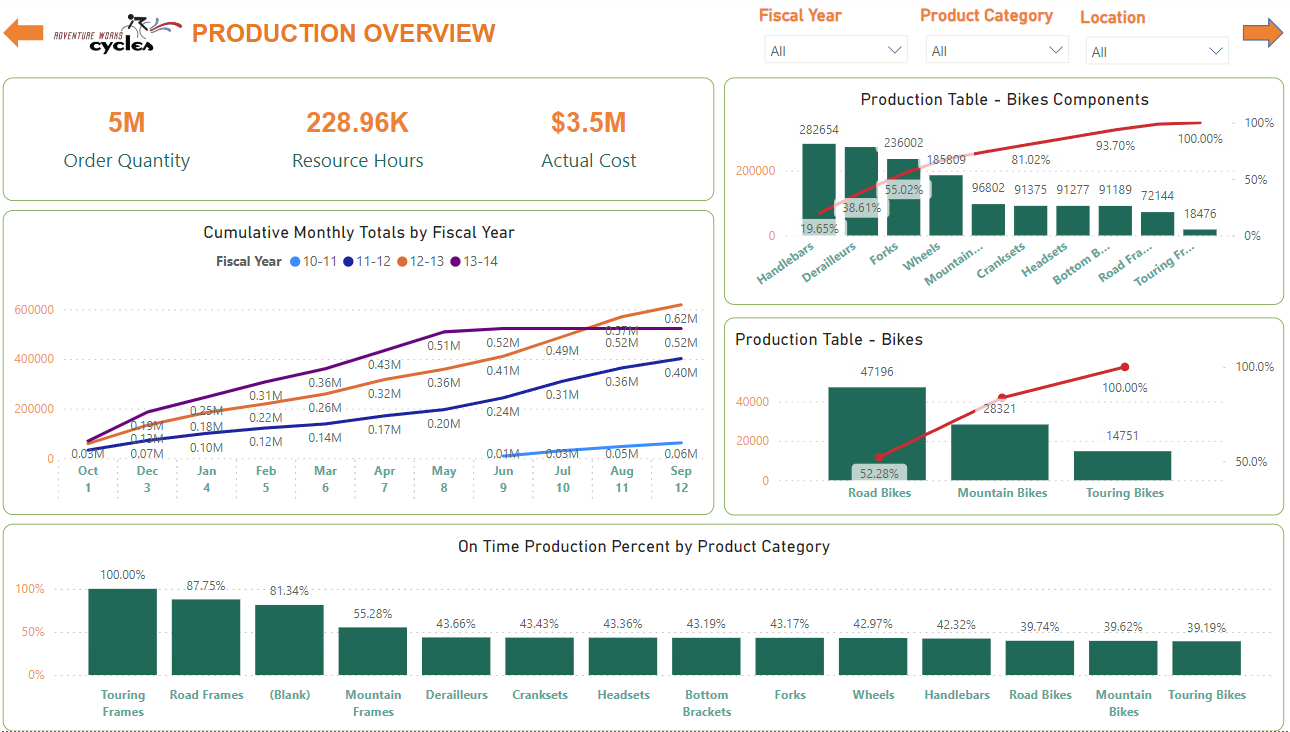

The dashboard page shown, as its layout file describes it:
{"tool":"powerbi","page":{"name":"PRODUCTION OVERVIEW","canvas":[1280,720],"ordinal":1},"visuals":[{"type":"cardVisual","title":"Fiscal YTD - Production","fields":{"Data":["Sum(DW Fact_Manufacturing.OrderQty)","Sum(DW Fact_Manufacturing.ActualResourceHrs)","Sum(DW Fact_Manufacturing.ActualCost)"]},"box":[13.5,80.7,695.8,121.1],"z":0},{"type":"lineChart","title":"Cumulative Monthly Totals by Fiscal Year","fields":{"Category":["Calendar.Fiscal Month sort","Calendar.CalMonth"],"Series":["Calendar.Fiscal Year"],"Y":["DAX.CumulativeTotalsYTD"]},"box":[13.5,210.3,695.8,298.4],"z":1000},{"type":"image","title":"logo","box":[57.2,0.4,138.6,80],"z":1500,"group":"g1"},{"type":"textbox","title":"title","box":[192.2,20.4,382.9,40],"z":1750,"group":"g1"},{"type":"group","id":"g1","title":"header","box":[12.9,0.4,1252.9,80.3],"z":2000},{"type":"lineClusteredColumnComboChart","title":"Production Table - Bikes Components","fields":{"Category":["Sum of Quantity Orders theo Sub.ProductSubCategoryName"],"Y":["Sum(Sum of Quantity Orders theo Sub.Sum of Quantity Orders)"],"Y2":["Sum of Quantity Orders theo Sub.Phan tram doanh thu cong don"]},"box":[719,80.7,547.8,222.6],"z":3000},{"type":"clusteredColumnChart","title":"On Time Production Percent by Product Category","fields":{"Category":["DW Dim_Product.ProductSubCategoryName"],"Y":["DAX.OnTimeProductionPercent"]},"box":[13.5,517.3,1253.4,203],"z":4000},{"type":"slicer","title":"Product Category","fields":{"Values":["DW Dim_Product.ProductCategoryName"]},"box":[905.1,9.8,160,70],"z":5000,"group":"g2"},{"type":"lineClusteredColumnComboChart","title":"Production Table - Bikes","fields":{"Category":["Sum_OrderQty of Bikes.ProductSubCategoryName"],"Y":["Sum(Sum_OrderQty of Bikes.Sum of Quantity Orders)"],"Y2":["Sum_OrderQty of Bikes.Phan tram san luong cong don"]},"box":[719,315.5,547.8,193.2],"z":5000},{"type":"slicer","title":"Location","fields":{"Values":["DW Dim_Location.LocationName"]},"box":[1062.3,11.2,160,70],"z":6000,"group":"g2"},{"type":"group","id":"g2","title":"filter","box":[748,9.8,474.5,70.9],"z":8001,"group":"g1"},{"type":"shape","title":"back","box":[12.9,22.9,40,30],"z":8251,"group":"g1"},{"type":"shape","title":"forward","box":[1225.8,22.9,40,30],"z":8501,"group":"g1"},{"type":"slicer","title":"Fiscal Year","fields":{"Values":["Calendar.Fiscal Year"]},"box":[748,9.8,160,70],"z":11000,"group":"g2"}]}

Visuals, with their boxes in screenshot pixels (x1, y1, x2, y2), scaled from the page's 1280x720 canvas onto the 1290x732 screenshot:
"Fiscal YTD - Production" cardVisual: (14,82,715,205)
"Cumulative Monthly Totals by Fiscal Year" lineChart: (14,214,715,517)
"logo" image: (58,0,197,82)
"title" textbox: (194,21,580,61)
"header" group: (13,0,1276,82)
"Production Table - Bikes Components" lineClusteredColumnComboChart: (725,82,1277,308)
"On Time Production Percent by Product Category" clusteredColumnChart: (14,526,1277,731)
"Product Category" slicer: (912,10,1073,81)
"Production Table - Bikes" lineClusteredColumnComboChart: (725,321,1277,517)
"Location" slicer: (1071,11,1232,83)
"filter" group: (754,10,1232,82)
"back" shape: (13,23,53,54)
"forward" shape: (1235,23,1276,54)
"Fiscal Year" slicer: (754,10,915,81)
